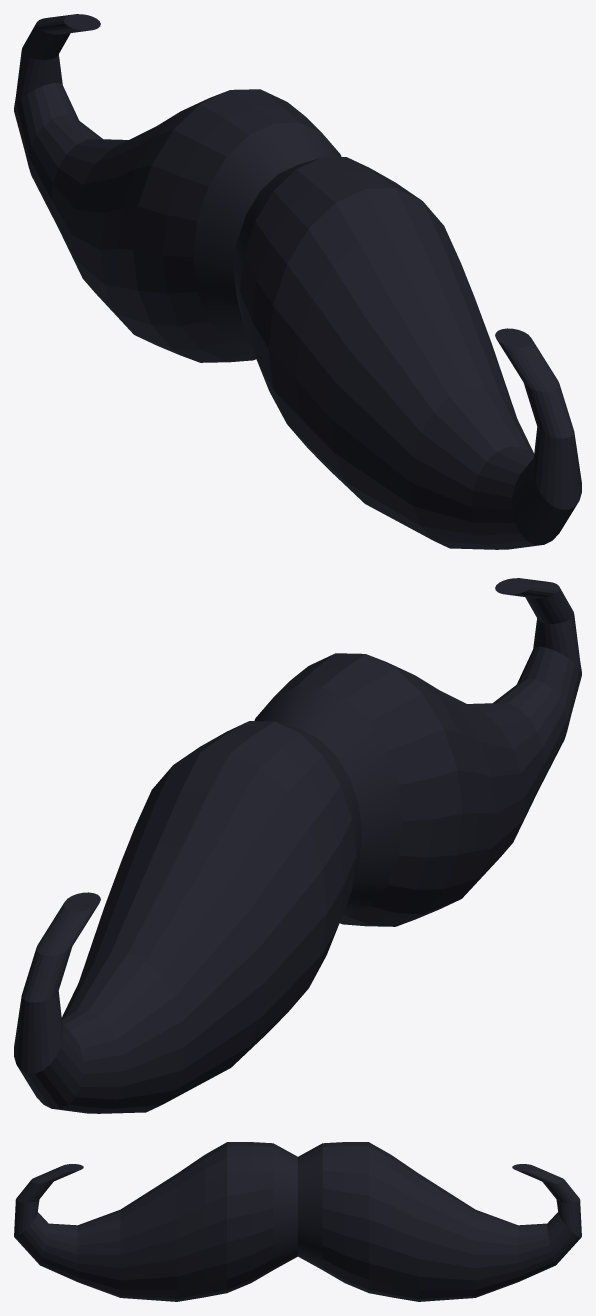
File: mustache.fbx
3 renders of one model, top to bottom at view 1: azimuth 30°, elevation 25°; view 2: azimuth 150°, elevation 25°; view 3: azimuth 270°, elevation 25°, orthographic. The views are drawn at different scales.
Visible parts, largest first — view 1: pCylinder5; view 2: pCylinder5; view 3: pCylinder5.
Boxes of the visible parts, x1,y1,x2,y2 form: pCylinder5: (14,14,581,549); pCylinder5: (14,578,581,1113); pCylinder5: (14,1142,581,1301).
Bounding box in the file's own units: 0.543 × 0.7767 × 2.62.
